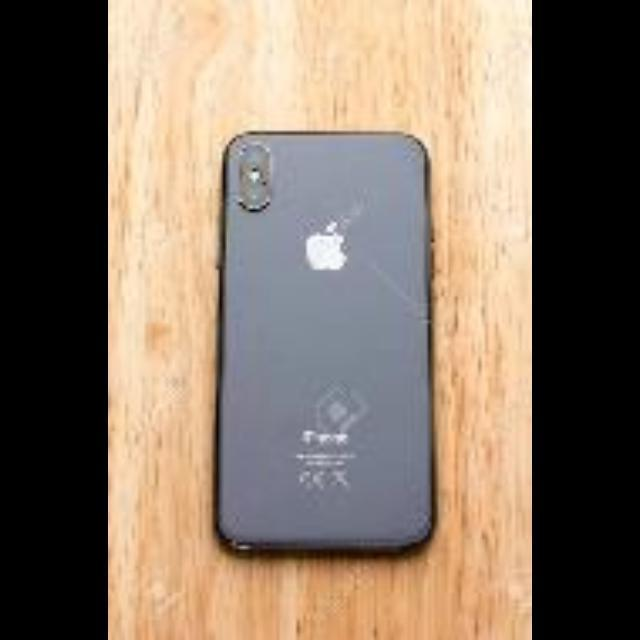PhoneUse: (216, 132, 438, 556)
